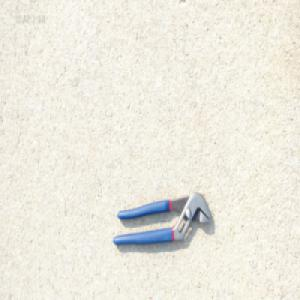Pliers: (112, 190, 215, 245)
